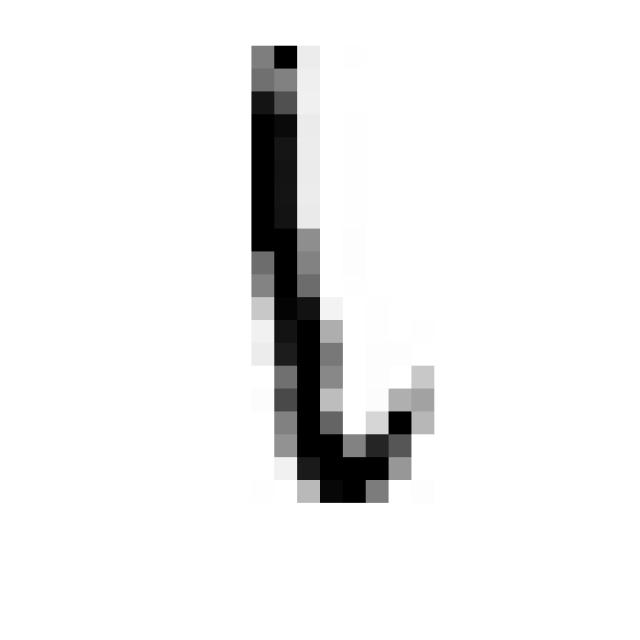1 -one-: (219, 28, 448, 520)
